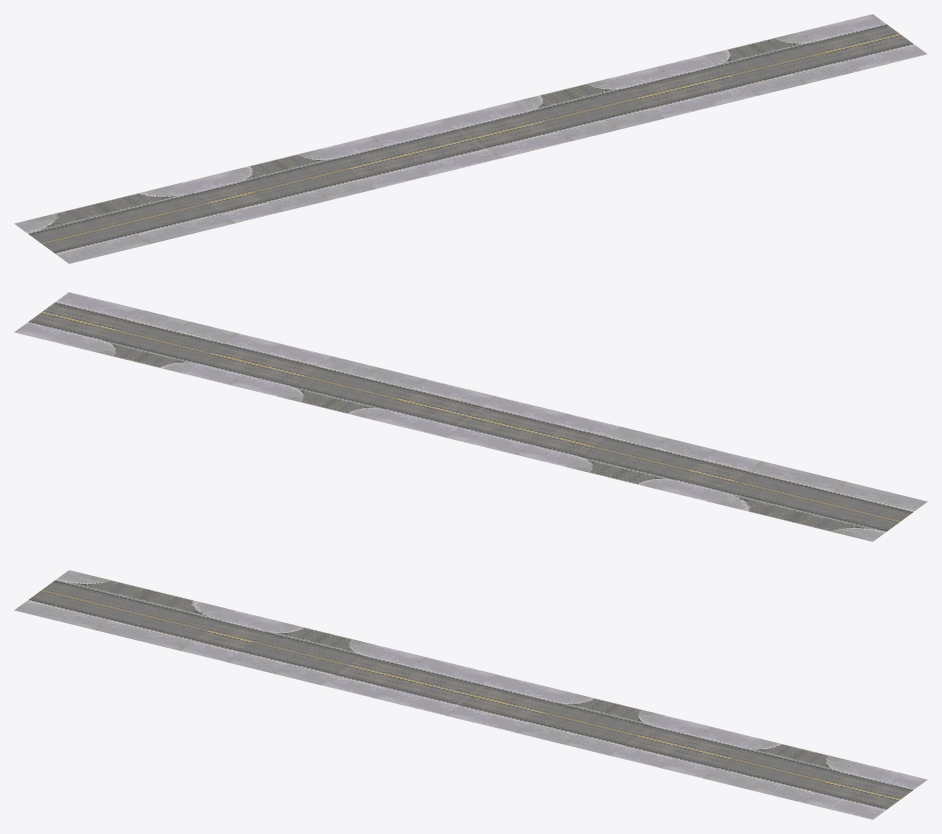
The model's file is lodasnedge05.obj.
3 views of the same model, one above another, from view 1: azimuth 30°, elevation 25°; view 2: azimuth 150°, elevation 25°; view 3: azimuth 330°, elevation 25° (orthographic).
Visible parts, largest first — view 1: lodasNedge05; view 2: lodasNedge05; view 3: lodasNedge05.
Boxes of the visible parts, x1,y1,x2,y2 form: lodasNedge05: (14, 14, 927, 263); lodasNedge05: (14, 292, 927, 541); lodasNedge05: (14, 570, 927, 819).
Size of the model in its own units: 180 by 0 by 20.01.
2 materials, 2 textured.
